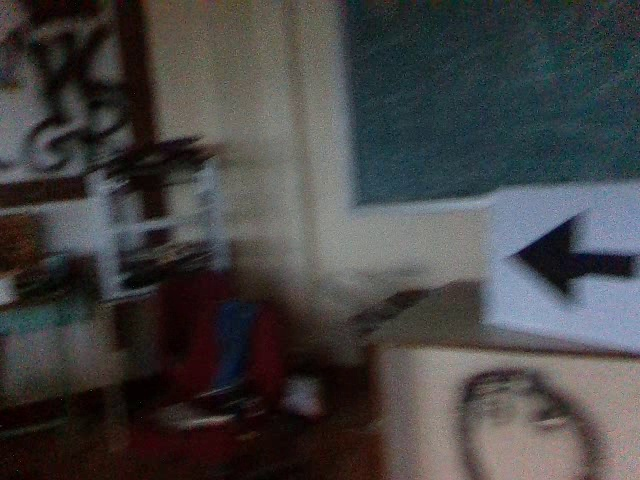Left: (506, 203, 640, 326)
